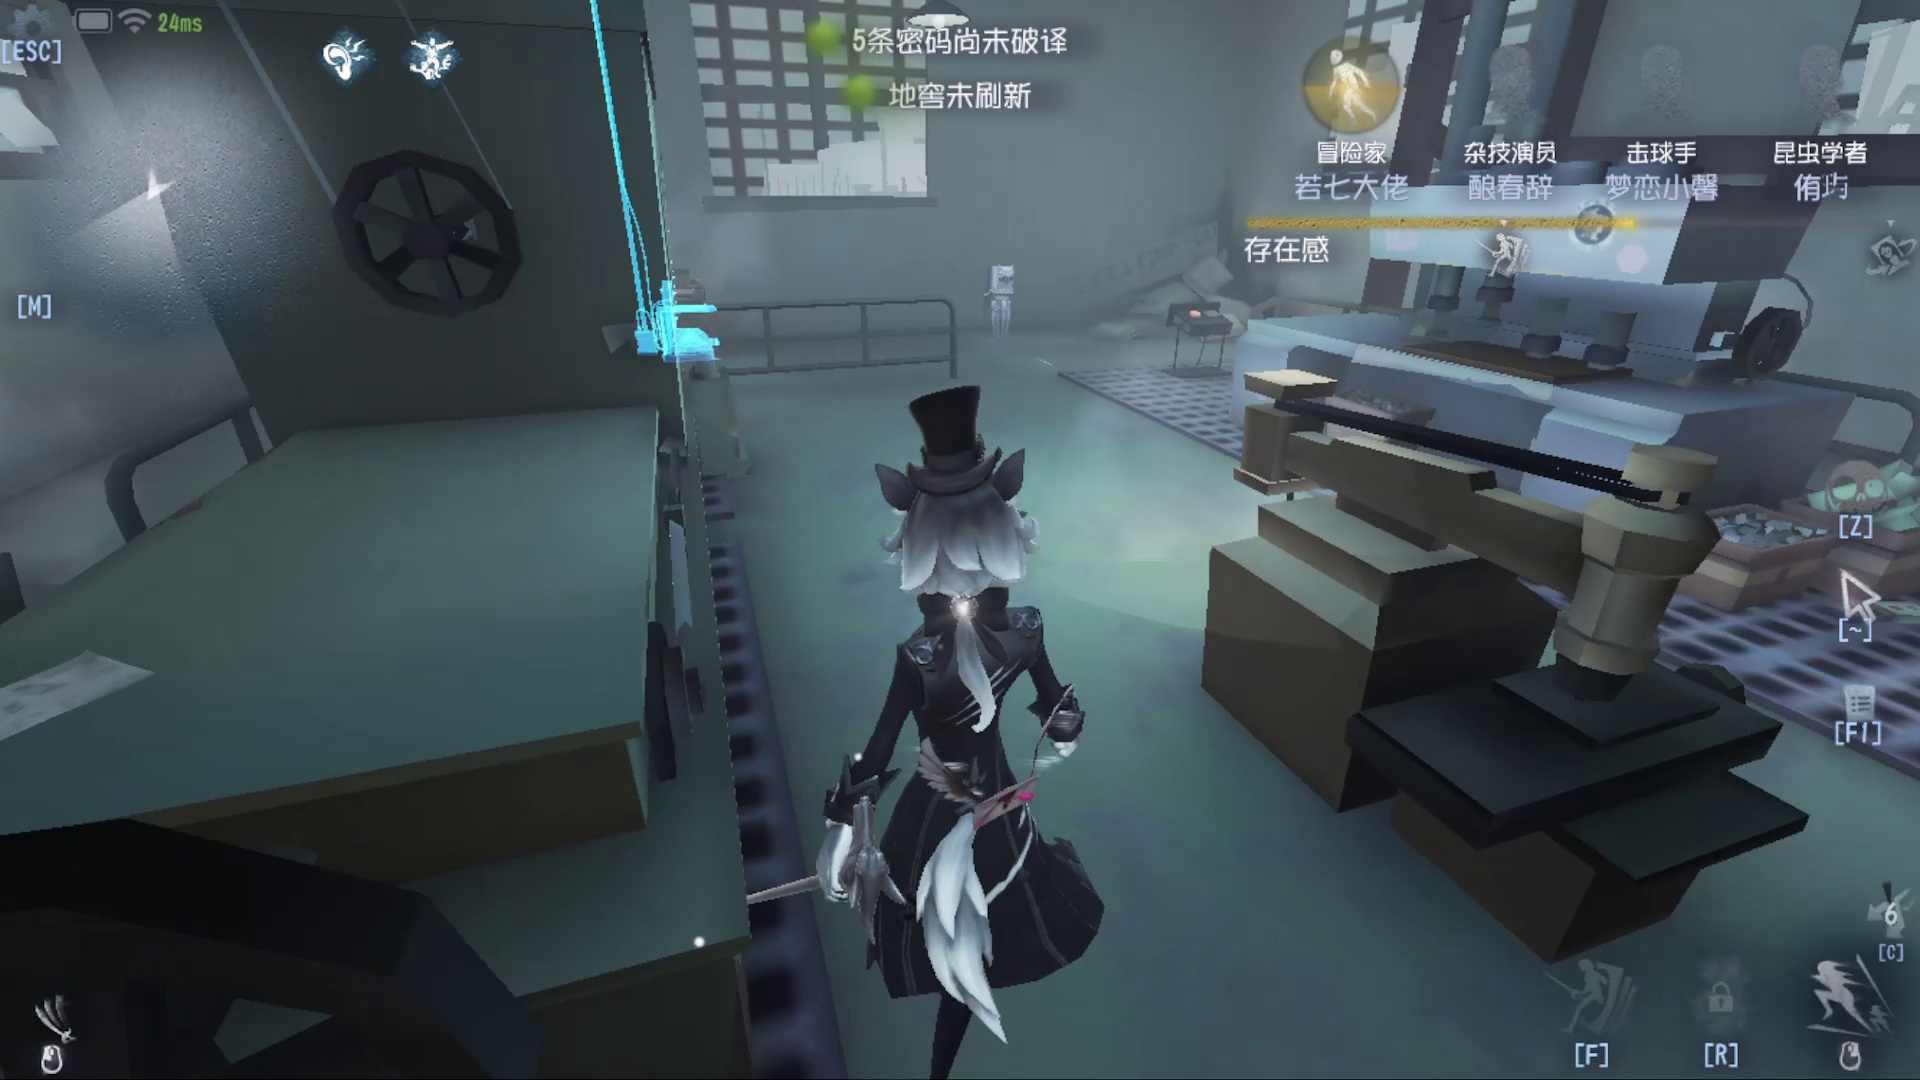密码机: (562, 8, 731, 392)
